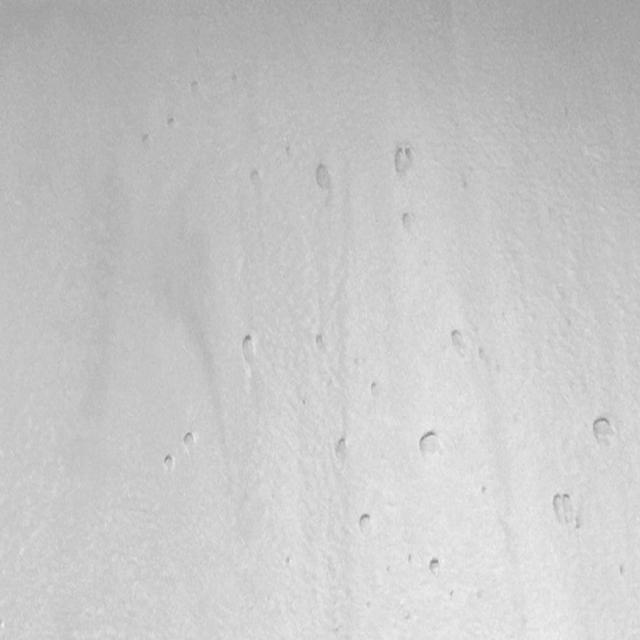pin holes: (548, 489, 577, 526), (446, 324, 473, 362), (390, 145, 418, 180), (591, 416, 619, 450), (417, 428, 445, 460), (238, 332, 262, 367), (311, 162, 333, 193), (357, 511, 379, 537), (332, 433, 352, 460), (245, 168, 264, 194), (397, 211, 417, 235), (180, 427, 198, 453), (160, 453, 178, 477), (428, 556, 446, 579), (313, 330, 330, 353), (138, 131, 154, 152), (164, 114, 180, 134), (189, 79, 203, 96), (369, 378, 382, 396), (447, 586, 458, 602), (479, 483, 491, 497), (406, 552, 416, 566)
